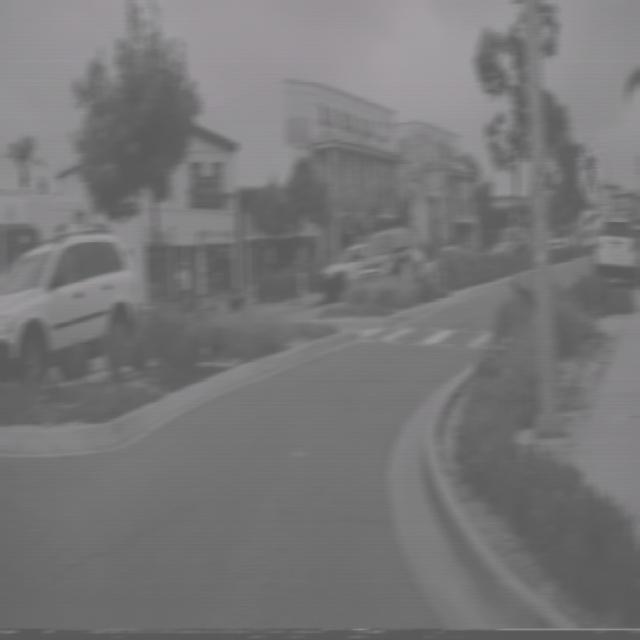pedestrianCrossing: (571, 136, 609, 210)
